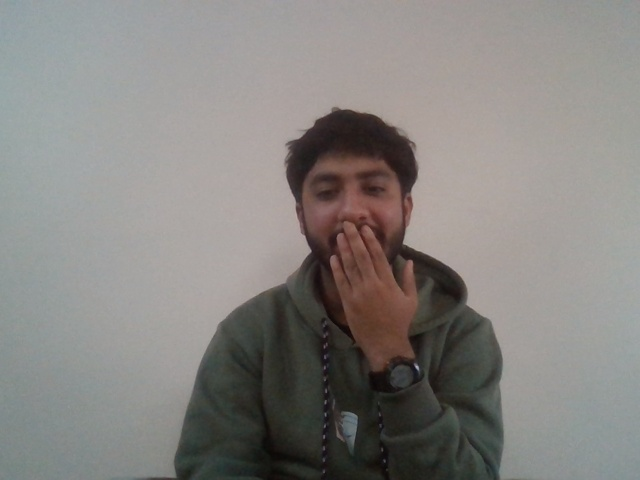Thanks: (290, 222, 485, 342)
